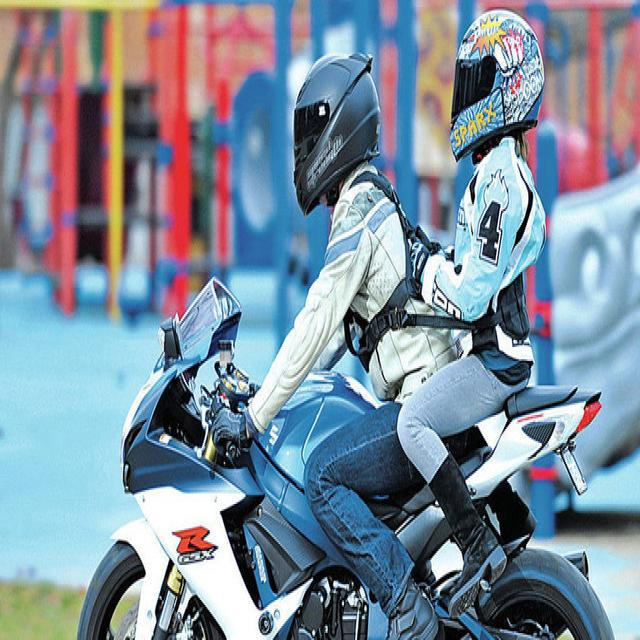helmet: (292, 47, 382, 214), (450, 8, 546, 160)
